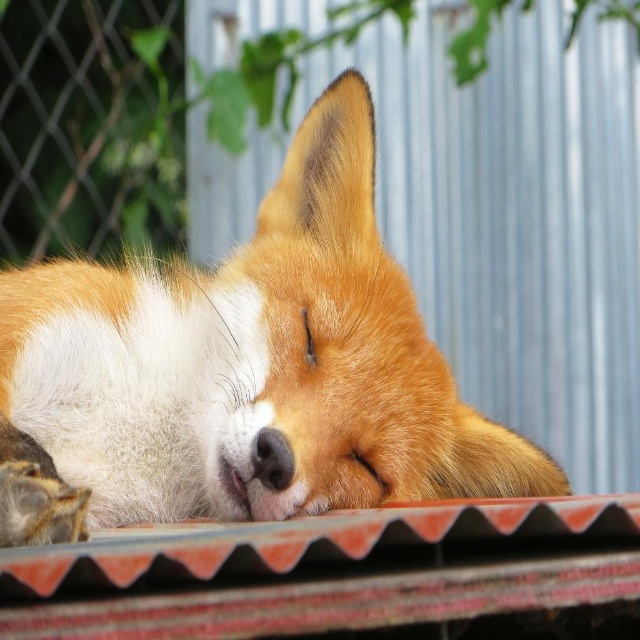Fox: (0, 63, 576, 549)
